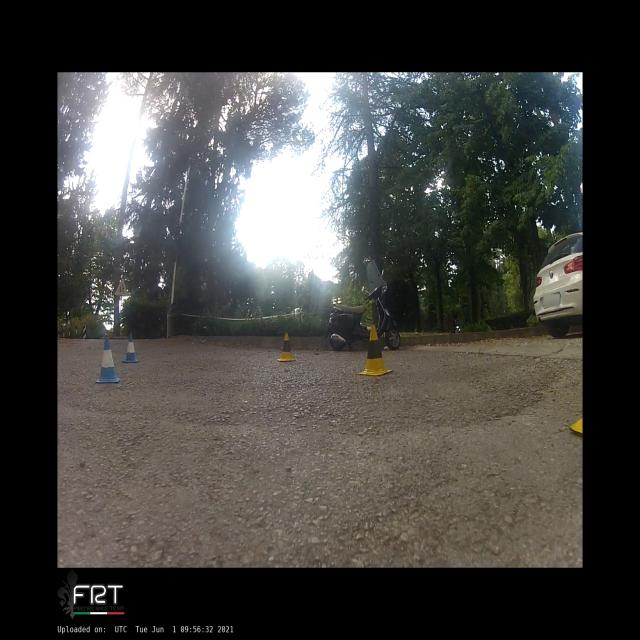blue_cone: (96, 339, 120, 383), (122, 332, 140, 363)
yellow_cone: (357, 326, 393, 376), (278, 332, 296, 362)
